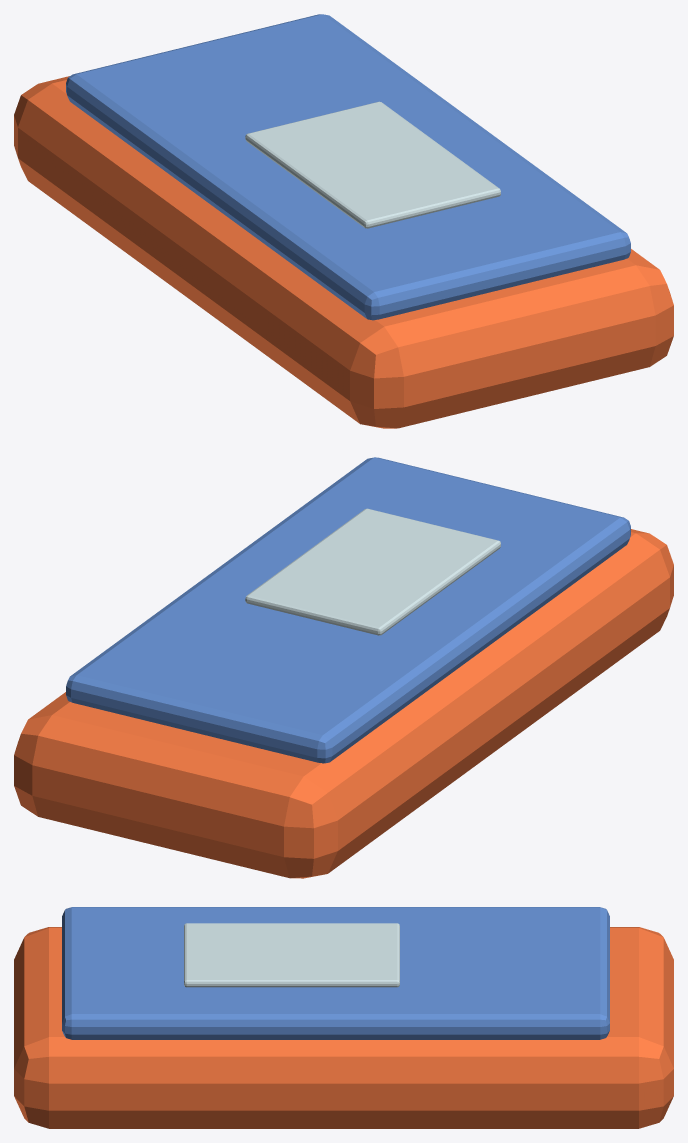
The model's file is bedroom_phone.glb.
3 renders of one model, top to bottom at view 1: azimuth 30°, elevation 25°; view 2: azimuth 150°, elevation 25°; view 3: azimuth 270°, elevation 25°, orthographic. The views are drawn at different scales.
Parts seen in each view (by area): view 1: bedroom_phone_Mesh; view 2: bedroom_phone_Mesh; view 3: bedroom_phone_Mesh.
Boxes of the visible parts, x1,y1,x2,y2 form: bedroom_phone_Mesh: (14,14,673,428); bedroom_phone_Mesh: (14,457,673,878); bedroom_phone_Mesh: (14,907,673,1128).
Size of the model in its own units: 0.082 by 0.0335 by 0.165.
